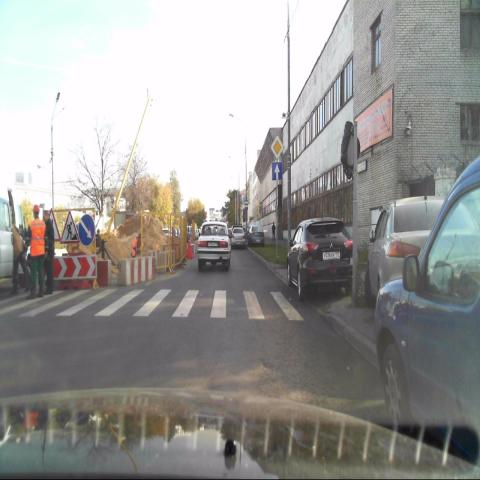1_25: (59, 212, 79, 244)
